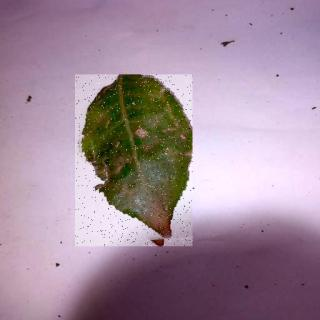Anthracnose: (76, 76, 194, 248)
